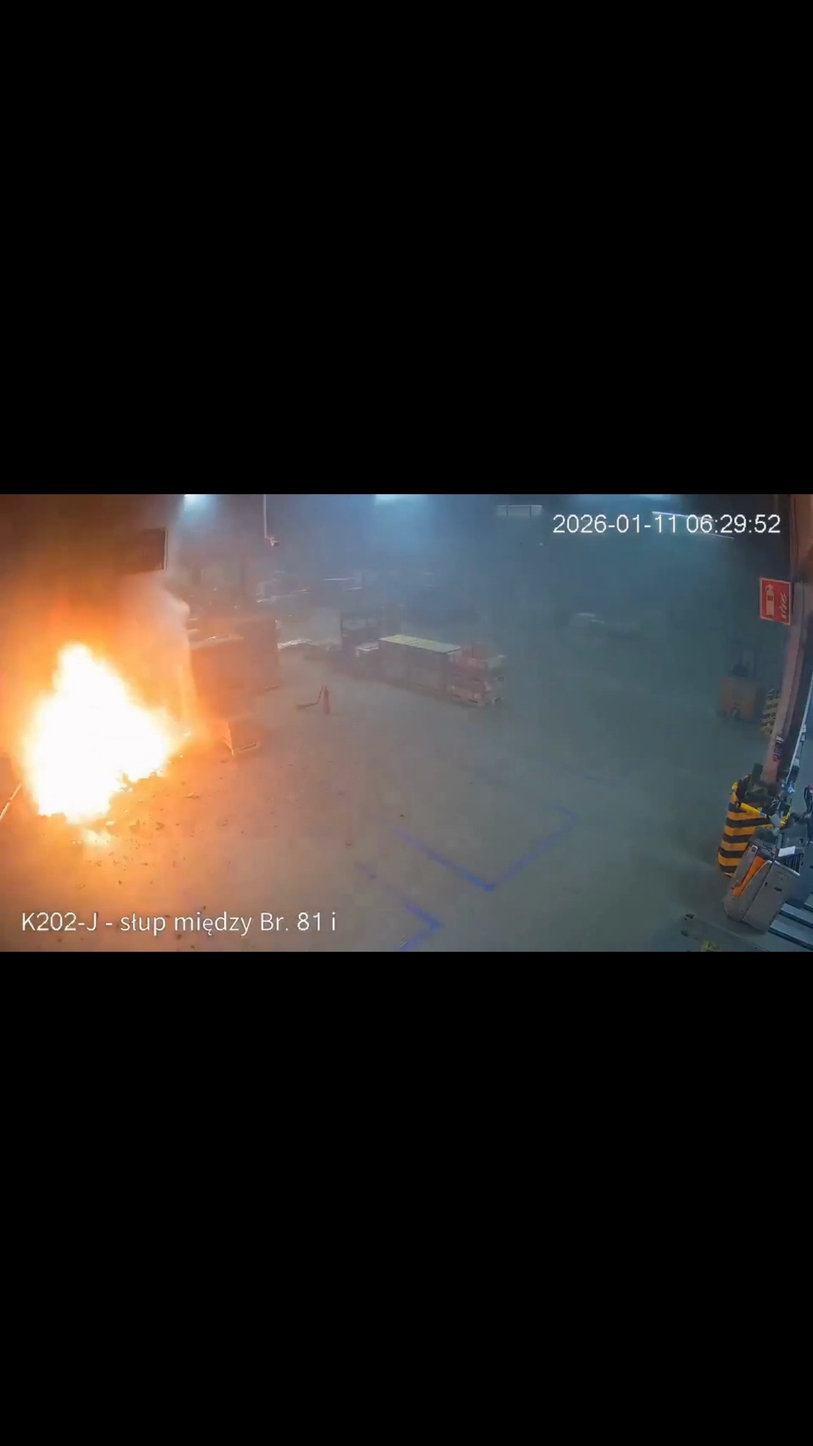fire: (14, 636, 202, 850)
smoke: (3, 496, 196, 692)
